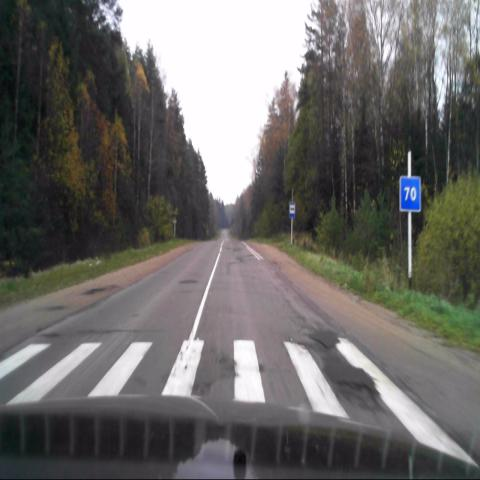6_2: (399, 174, 421, 213)
